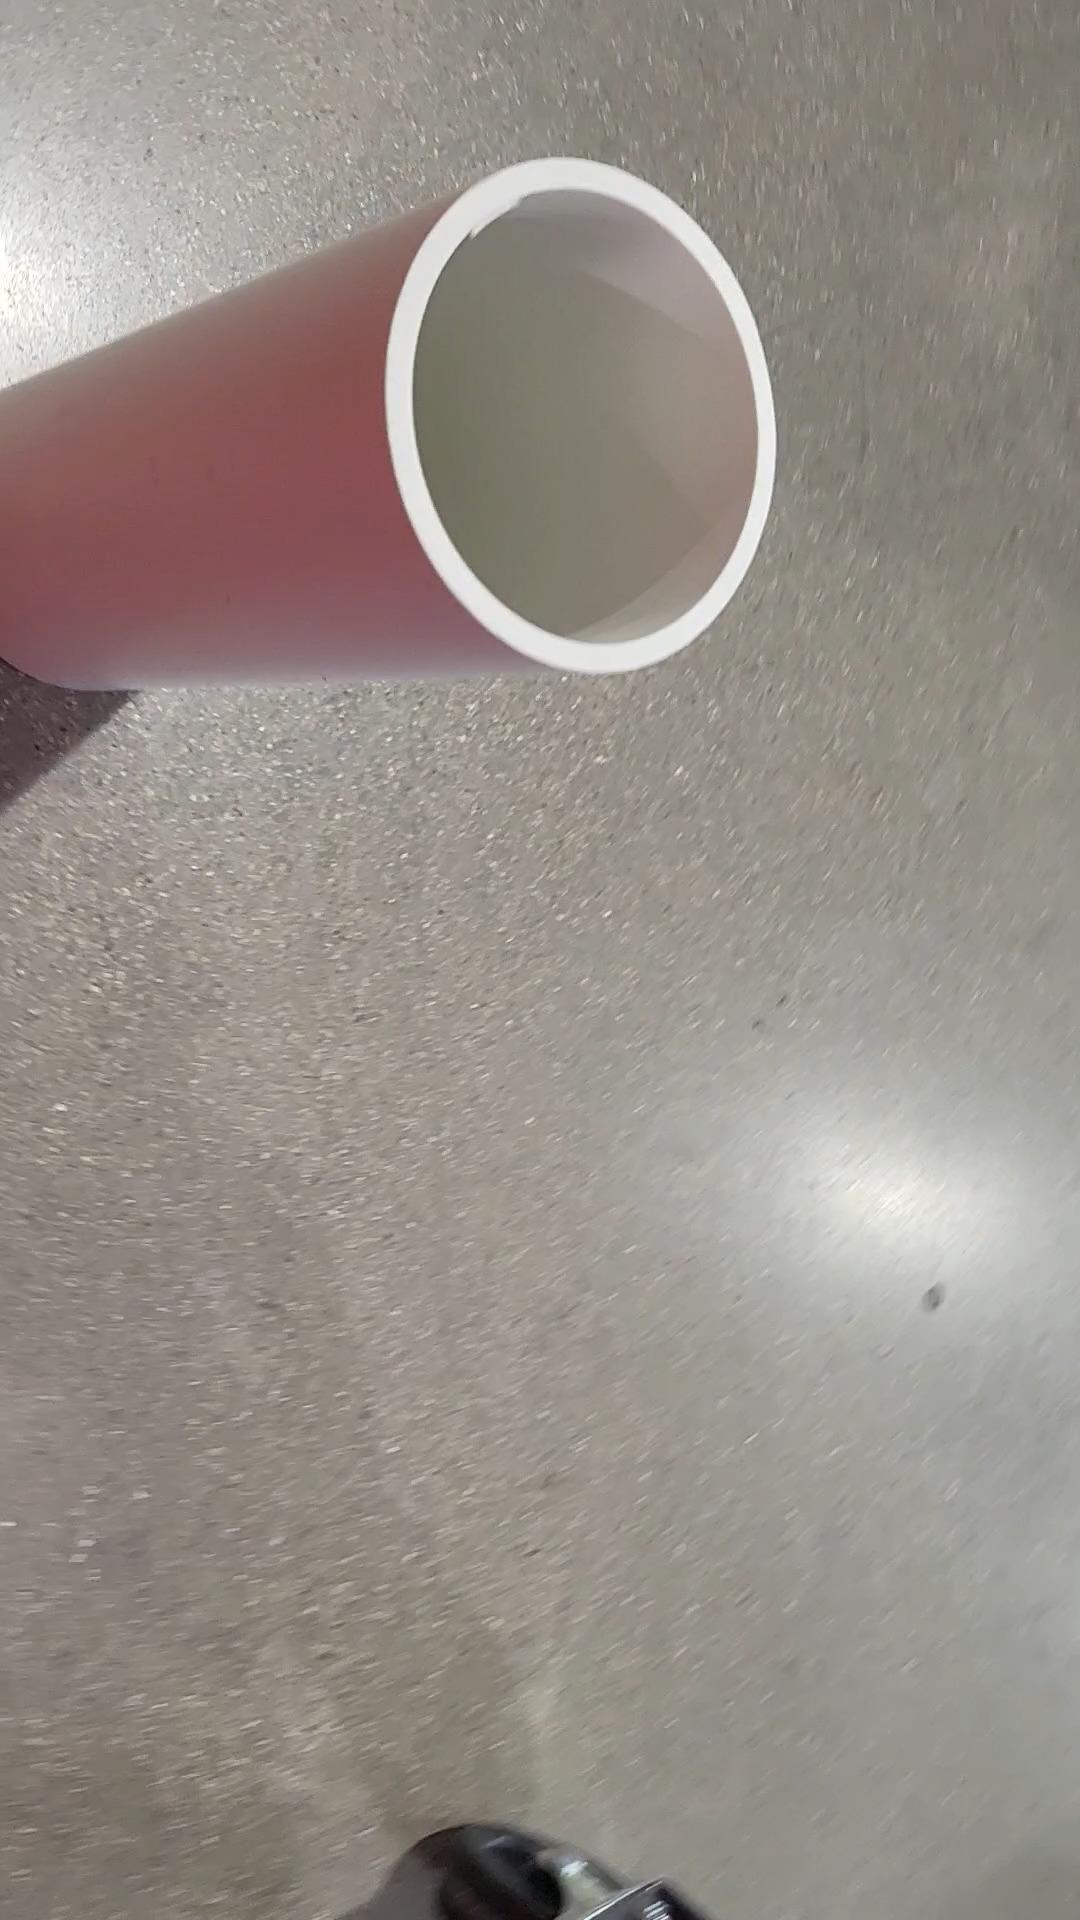coral: (0, 146, 787, 690)
